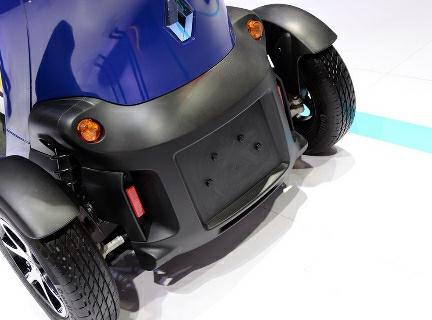雷诺-Twizy: (4, 4, 360, 320)
